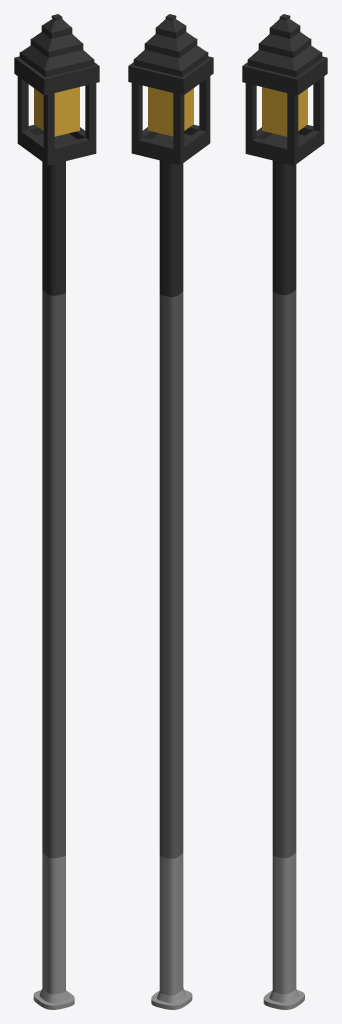
3 renders of one model, left to right at view 1: azimuth 30°, elevation 25°; view 2: azimuth 150°, elevation 25°; view 3: azimuth 330°, elevation 25°, orthographic.
Visible parts, largest first — view 1: lantern_post; view 2: lantern_post; view 3: lantern_post.
Boxes of the visible parts, x1,y1,x2,y2 form: lantern_post: (14,14,99,1009); lantern_post: (128,14,213,1009); lantern_post: (242,14,327,1009).
Bounding box in the file's own units: 0.4715 × 8 × 0.442.
